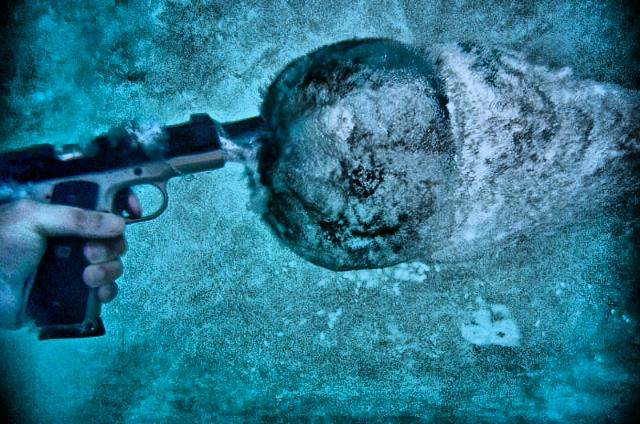pistol: (0, 108, 226, 340)
